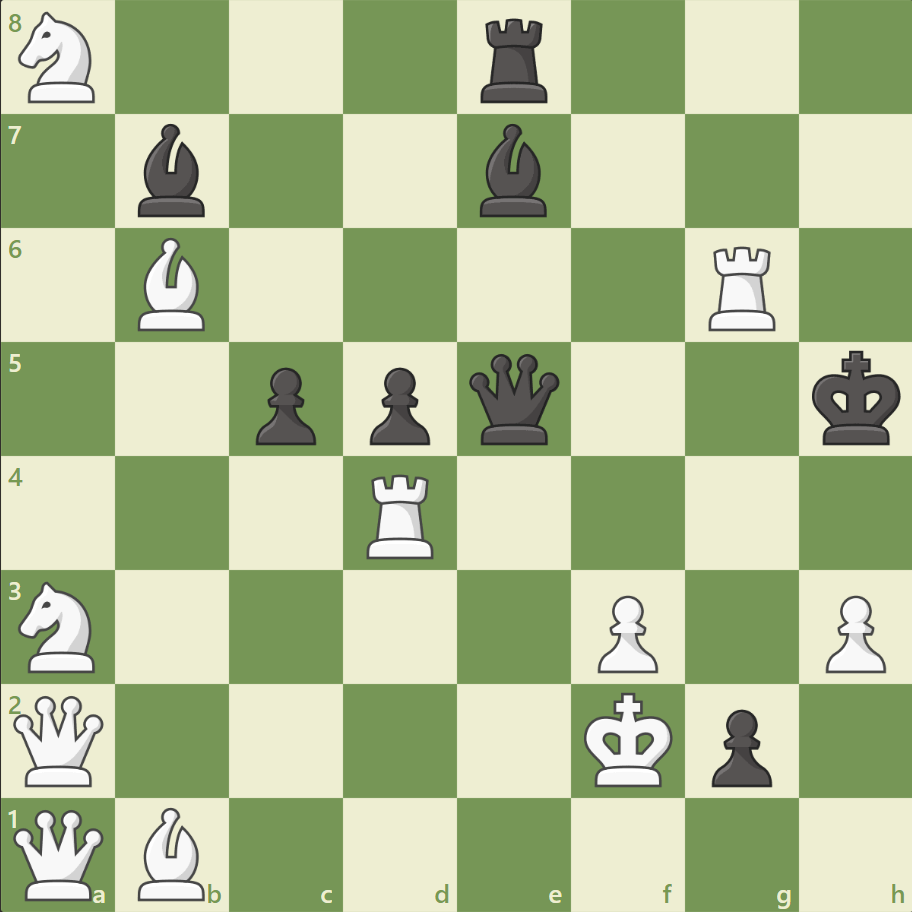B: (131, 233, 215, 336), (131, 801, 215, 904)
K: (579, 685, 679, 793)
N: (11, 7, 108, 110), (11, 575, 108, 677)
P: (588, 586, 662, 677), (815, 586, 889, 677)
Q: (10, 690, 109, 789), (10, 804, 109, 903)
R: (700, 239, 783, 336), (360, 466, 442, 563)
b: (131, 120, 215, 222), (471, 120, 555, 222)
k: (806, 344, 906, 452)
p: (247, 359, 322, 450), (701, 700, 776, 791), (361, 359, 435, 450)
q: (464, 349, 563, 449)
r: (473, 12, 556, 109)
